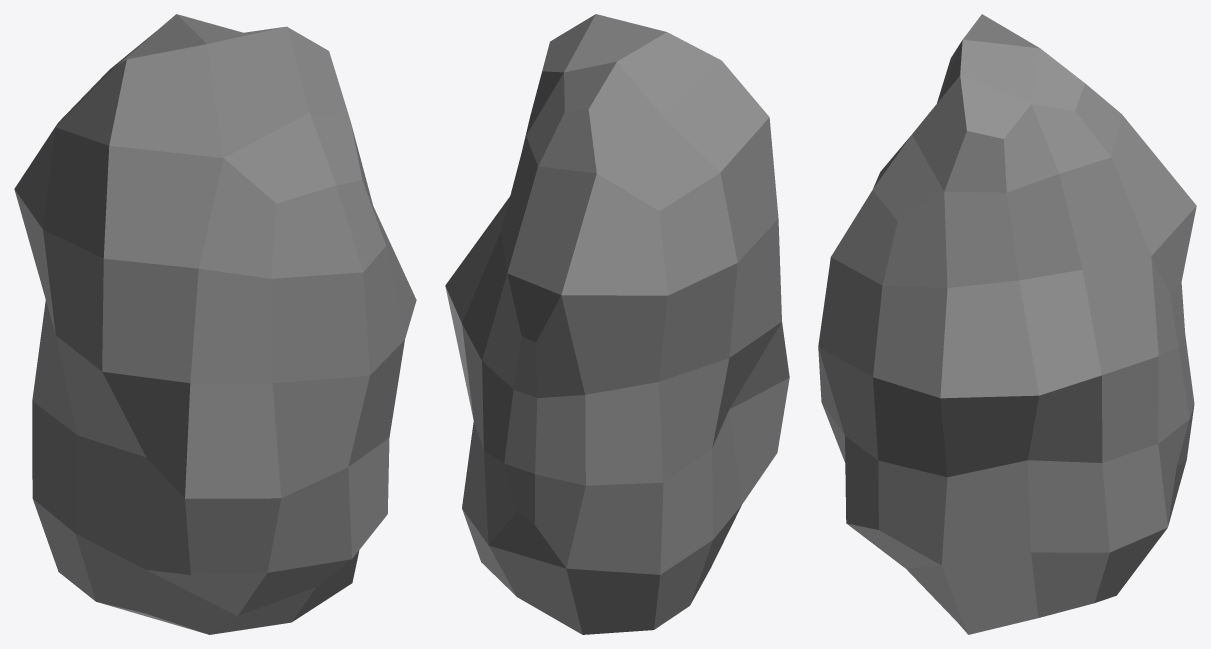
Rendered from Stone2_gray.fbx.
The picture shows the model from 3 angles, left to right: view 1: azimuth 30°, elevation 25°; view 2: azimuth 150°, elevation 25°; view 3: azimuth 270°, elevation 25°; orthographic projection. The views are drawn at different scales.
Parts seen in each view (by area): view 1: Stone2_gray; view 2: Stone2_gray; view 3: Stone2_gray.
Part boxes in pixels (x1,y1,x2,y2): Stone2_gray: (14, 14, 416, 634); Stone2_gray: (445, 14, 789, 634); Stone2_gray: (818, 14, 1196, 634).
Size of the model in its own units: 243 by 439 by 273.
